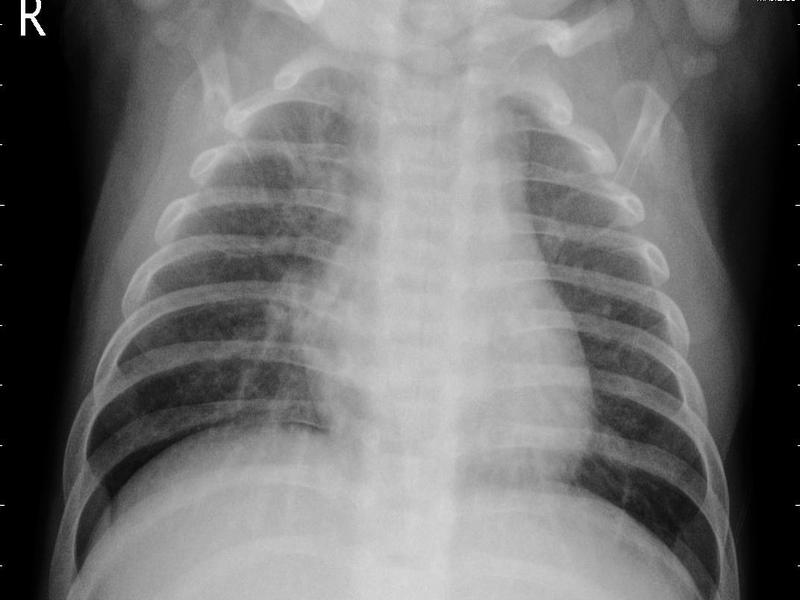PNEUMONIA: (531, 137, 651, 318), (220, 104, 359, 251), (598, 330, 690, 520), (207, 265, 312, 426)
